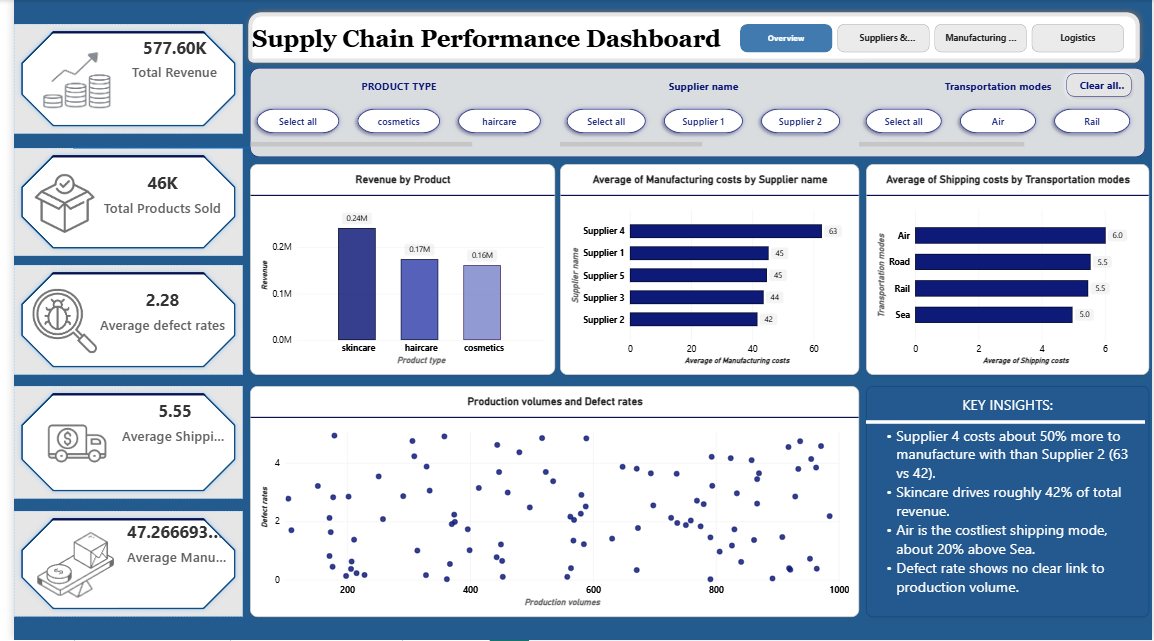

The page's visual inventory and layout, read from the dashboard file:
{"tool":"powerbi","page":{"name":"Overview","canvas":[1920,1080],"ordinal":0},"visuals":[{"type":"cardVisual","fields":{"Data":["Supply Chain.Total Revenue"]},"box":[0,40.5,386.4,185.6],"z":0},{"type":"cardVisual","fields":{"Data":["Supply Chain.Total Products Sold"]},"box":[0,249.8,386.4,182.2],"z":1000},{"type":"cardVisual","fields":{"Data":["Supply Chain.Average Shipping cost"]},"box":[0,651.4,386.4,190.7],"z":2000},{"type":"cardVisual","fields":{"Data":["Supply Chain.Average Manufacturing cost"]},"box":[0,862.3,386.4,178.9],"z":3000},{"type":"cardVisual","fields":{"Data":["Supply Chain.Average defect rates"]},"box":[0,447.2,386.4,185.6],"z":4000},{"type":"clusteredColumnChart","title":"Revenue by Product","fields":{"Category":["product_table (2).Product type"],"Y":["Sum(Supply Chain.Revenue generated)"]},"box":[398.2,276.8,514.7,356.1],"z":5000},{"type":"scatterChart","fields":{"X":["Supply Chain.Production volumes"],"Y":["Supply Chain.Defect rates"]},"box":[398.2,651.4,1027.7,389.8],"z":6000},{"type":"clusteredBarChart","fields":{"Category":["Supply Chain.Transportation modes"],"Y":["Avg(Supply Chain.Shipping costs)"]},"box":[1437.8,276.8,477.6,356.1],"z":7000},{"type":"clusteredBarChart","fields":{"Category":["Supply Chain.Supplier name"],"Y":["Avg(Supply Chain.Manufacturing costs)"]},"box":[921.4,276.8,504.6,356.1],"z":8000},{"type":"advancedSlicerVisual","fields":{"Values":["Supply Chain.Supplier name"]},"box":[1243.7,21.9,194.1,82.7],"z":9000},{"type":"shape","box":[386.4,11.8,1522.1,102.9],"z":10000},{"type":"pageNavigator","box":[1225.1,40.5,651.4,48.9],"z":11000},{"type":"shape","box":[398.2,114.8,1510.3,150.2],"z":12000},{"type":"advancedSlicerVisual","title":"PRODUCT TYPE","fields":{"Values":["product_table (2).Product type"]},"box":[398.2,133.3,502.9,116.4],"z":13000},{"type":"advancedSlicerVisual","fields":{"Values":["Supply Chain.Supplier name"]},"box":[921.4,133.3,484.3,116.4],"z":14000},{"type":"advancedSlicerVisual","fields":{"Values":["Supply Chain.Transportation modes"]},"box":[1425.9,133.3,469.1,116.4],"z":15000},{"type":"actionButton","box":[1766.8,114.8,128.2,57.4],"z":15001},{"type":"textbox","box":[1437.8,651.4,478,390],"z":15002},{"type":"shape","box":[100,100,300,300],"z":15003},{"type":"shape","box":[1437.8,561.9,470.8,300.4],"z":15004}]}

Visuals, with their boxes in screenshot pixels (x1, y1, x2, y2), scaled from the page's 1920x1080 canvas onto the 1154x641 screenshot:
cardVisual - Supply Chain.Total Revenue: 0/24/232/134
cardVisual - Supply Chain.Total Products Sold: 0/148/232/256
cardVisual - Supply Chain.Average Shipping cost: 0/387/232/500
cardVisual - Supply Chain.Average Manufacturing cost: 0/512/232/618
cardVisual - Supply Chain.Average defect rates: 0/265/232/376
"Revenue by Product" clusteredColumnChart: 239/164/549/376
scatterChart - Supply Chain.Production volumes x Supply Chain.Defect rates: 239/387/857/618
clusteredBarChart - Supply Chain.Transportation modes x Avg(Supply Chain.Shipping costs): 864/164/1151/376
clusteredBarChart - Supply Chain.Supplier name x Avg(Supply Chain.Manufacturing costs): 554/164/857/376
advancedSlicerVisual - Supply Chain.Supplier name: 748/13/864/62
shape: 232/7/1147/68
pageNavigator: 736/24/1128/53
shape: 239/68/1147/157
"PRODUCT TYPE" advancedSlicerVisual: 239/79/542/148
advancedSlicerVisual - Supply Chain.Supplier name: 554/79/845/148
advancedSlicerVisual - Supply Chain.Transportation modes: 857/79/1139/148
actionButton: 1062/68/1139/102
textbox: 864/387/1151/618
shape: 60/59/240/237
shape: 864/333/1147/512
